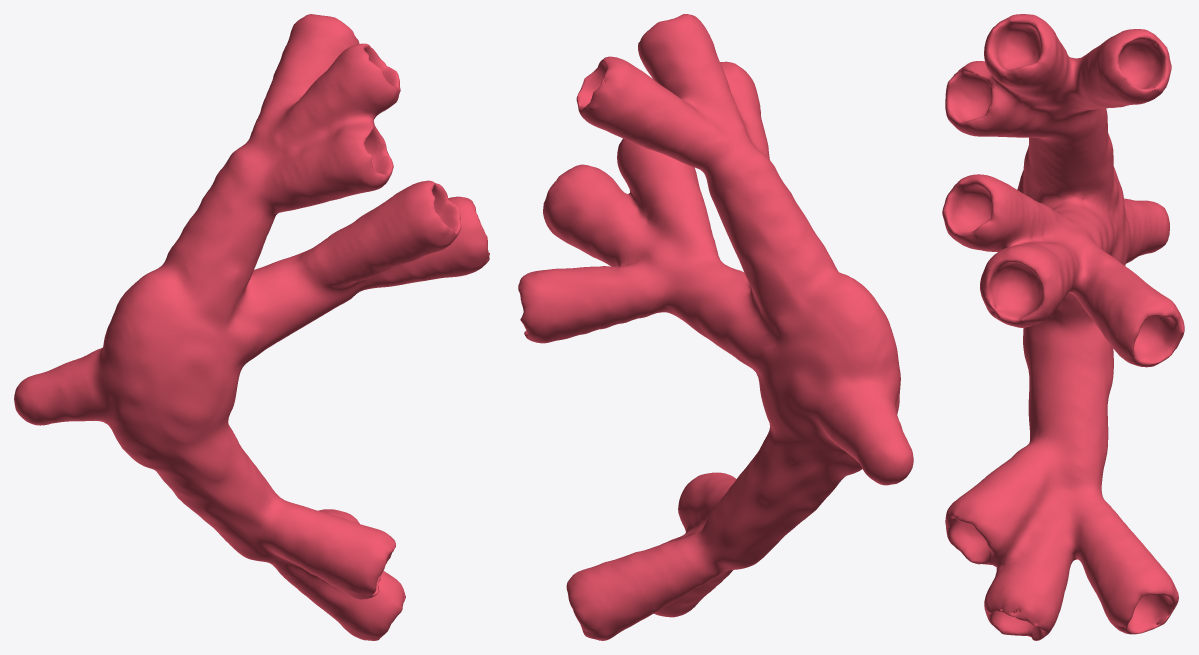
File: CollectingSystemVisual.obj
The picture shows the model from 3 angles, left to right: view 1: azimuth 30°, elevation 25°; view 2: azimuth 150°, elevation 25°; view 3: azimuth 270°, elevation 25°; orthographic projection. The views are drawn at different scales.
Visible parts, largest first — view 1: CollectingSystemVisual; view 2: CollectingSystemVisual; view 3: CollectingSystemVisual.
Part boxes in pixels (bbox=[...]): CollectingSystemVisual: bbox=[14, 14, 489, 640]; CollectingSystemVisual: bbox=[518, 14, 913, 640]; CollectingSystemVisual: bbox=[942, 14, 1184, 640].
Bounding box in the file's own units: 8 × 10.99 × 3.92.
